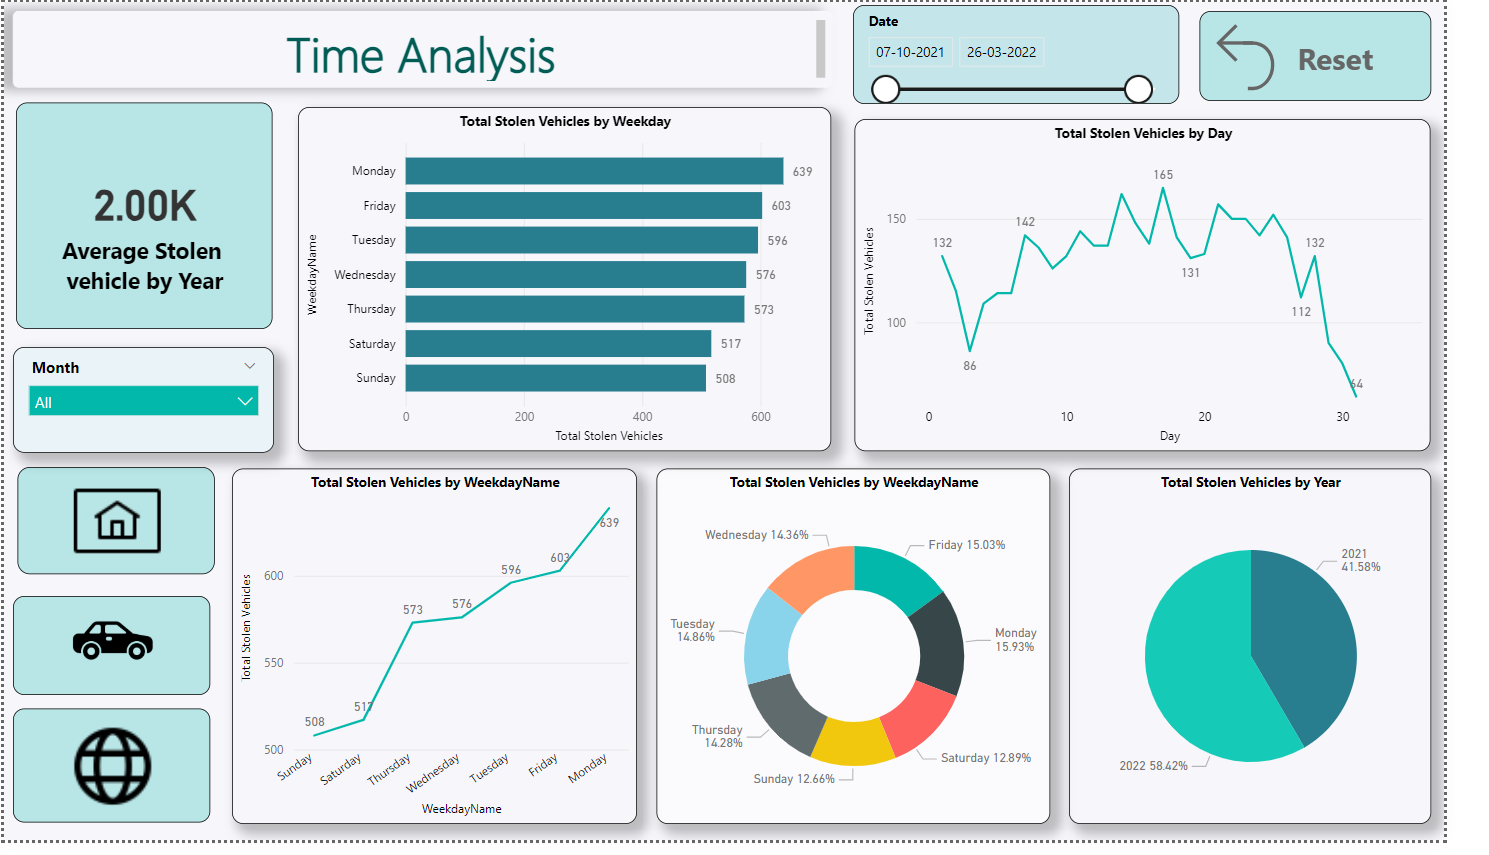

What the dashboard file says about the page in this screenshot:
{"tool":"powerbi","page":{"name":"time_dash","canvas":[1280,745],"ordinal":17},"visuals":[{"type":"pieChart","fields":{"Y":["Measures_Table.Total Stolen Vehicles"],"Series":["CalendarTable.Year"]},"box":[946,414,322,316],"z":0},{"type":"donutChart","fields":{"Y":["Measures_Table.Total Stolen Vehicles"],"Series":["CalendarTable.WeekdayName"]},"box":[580,414,350,316],"z":1000},{"type":"lineChart","fields":{"Category":["CalendarTable.WeekdayName"],"Y":["Measures_Table.Total Stolen Vehicles"]},"box":[202,414,360,316],"z":2000},{"type":"slicer","fields":{"Values":["CalendarTable.Date"]},"box":[754,2,290,88],"z":3000},{"type":"slicer","fields":{"Values":["CalendarTable.Date.Variation.Date Hierarchy.Month"]},"box":[7.7,306.2,232.3,93.8],"z":4000},{"type":"barChart","title":"Total Stolen Vehicles by Weekday","fields":{"Y":["Measures_Table.Total Stolen Vehicles"],"Category":["CalendarTable.WeekdayName"]},"box":[261.5,93.8,473.8,306.2],"z":5000},{"type":"textbox","box":[12,8,628,82],"z":6000},{"type":"card","fields":{"Values":["Measures_Table.Average Stolen vehicle by Year"]},"box":[10.8,89.2,227.7,201.5],"z":7000},{"type":"textbox","box":[8,8,728,68],"z":8000},{"type":"image","title":"home","box":[12.3,413.8,175.4,95.4],"z":9000},{"type":"image","title":"vehicle","box":[7.7,527.7,175.4,87.7],"z":10000},{"type":"image","title":"location","box":[7.7,627.7,175.4,101.5],"z":11000},{"type":"actionButton","title":"reset","box":[1062,8,206,80],"z":12000},{"type":"lineChart","fields":{"Category":["CalendarTable.Day"],"Y":["Measures_Table.Total Stolen Vehicles"]},"box":[755.4,104.6,512.3,295.4],"z":13000}]}

Visuals, with their boxes in screenshot pixels (x1, y1, x2, y2), scaled from the page's 1280x745 canvas onto the 1489x855 screenshot:
pieChart - Measures_Table.Total Stolen Vehicles x CalendarTable.Year: <bbox>1100, 475, 1475, 838</bbox>
donutChart - Measures_Table.Total Stolen Vehicles x CalendarTable.WeekdayName: <bbox>675, 475, 1082, 838</bbox>
lineChart - CalendarTable.WeekdayName x Measures_Table.Total Stolen Vehicles: <bbox>235, 475, 654, 838</bbox>
slicer - CalendarTable.Date: <bbox>877, 2, 1214, 103</bbox>
slicer - CalendarTable.Date.Variation.Date Hierarchy.Month: <bbox>9, 351, 279, 459</bbox>
"Total Stolen Vehicles by Weekday" barChart: <bbox>304, 108, 855, 459</bbox>
textbox: <bbox>14, 9, 744, 103</bbox>
card - Measures_Table.Average Stolen vehicle by Year: <bbox>13, 102, 277, 334</bbox>
textbox: <bbox>9, 9, 856, 87</bbox>
"home" image: <bbox>14, 475, 218, 584</bbox>
"vehicle" image: <bbox>9, 606, 213, 706</bbox>
"location" image: <bbox>9, 720, 213, 837</bbox>
"reset" actionButton: <bbox>1235, 9, 1475, 101</bbox>
lineChart - CalendarTable.Day x Measures_Table.Total Stolen Vehicles: <bbox>879, 120, 1475, 459</bbox>
